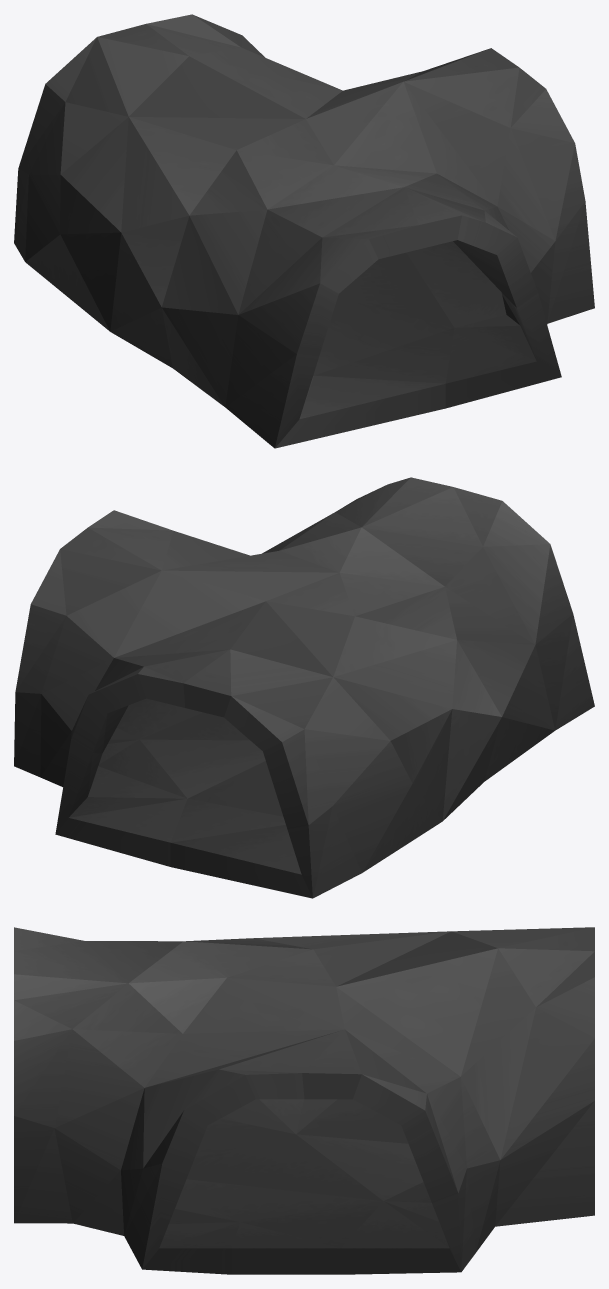
Rendered from GL-Cave-part-05-LOD3.fbx.
The picture shows the model from 3 angles, top to bottom: view 1: azimuth 30°, elevation 25°; view 2: azimuth 150°, elevation 25°; view 3: azimuth 270°, elevation 25°; orthographic projection. The views are drawn at different scales.
Visible parts, largest first — view 1: GL_Cave_part_05; view 2: GL_Cave_part_05; view 3: GL_Cave_part_05.
Part boxes in pixels (x1,y1,x2,y2): GL_Cave_part_05: (14, 14, 594, 448); GL_Cave_part_05: (14, 477, 594, 898); GL_Cave_part_05: (14, 927, 594, 1274).
Bounding box in the file's own units: 4.99 × 2.32 × 6.
